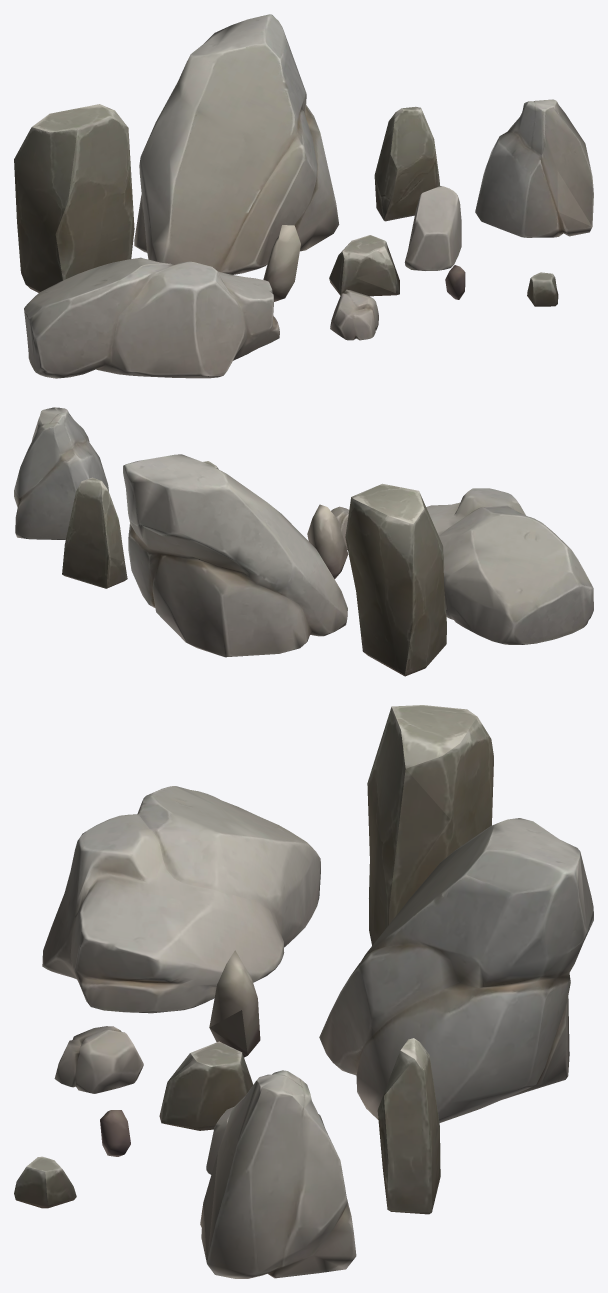
Rendered from rochers.glb.
The picture shows the model from 3 angles, top to bottom: view 1: azimuth 30°, elevation 25°; view 2: azimuth 150°, elevation 25°; view 3: azimuth 270°, elevation 25°; orthographic projection. The views are drawn at different scales.
Parts seen in each view (by area): view 1: SM_Rocks_01_RocksStylized_M_0; view 2: SM_Rocks_01_RocksStylized_M_0; view 3: SM_Rocks_01_RocksStylized_M_0.
Part boxes in pixels (x1,y1,x2,y2): SM_Rocks_01_RocksStylized_M_0: [14, 14, 593, 378]; SM_Rocks_01_RocksStylized_M_0: [14, 407, 593, 676]; SM_Rocks_01_RocksStylized_M_0: [14, 705, 593, 1278].
Size of the model in its own units: 5.59 by 1.7 by 3.35.
1 material, 1 textured.
